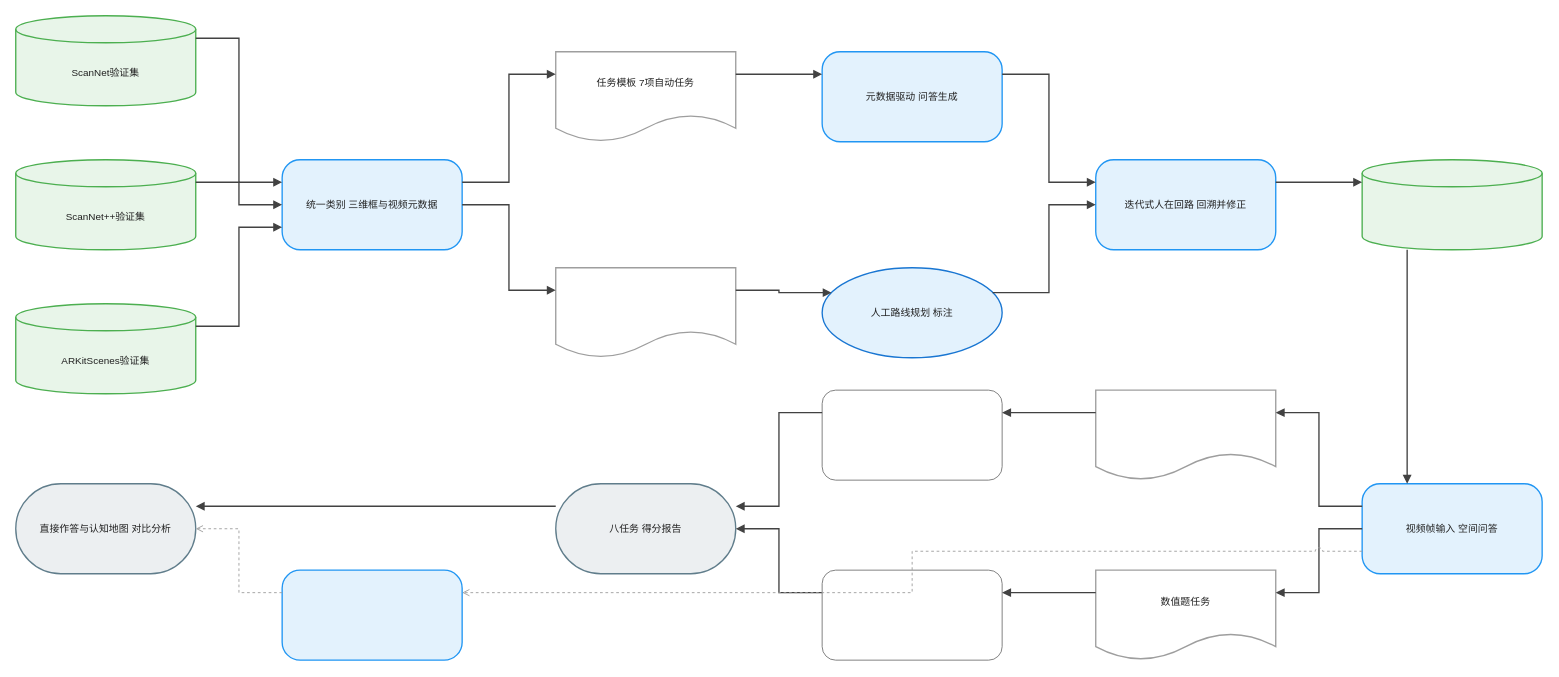
Image size: 1559x677. Some labels were removed from this diagram. The box of each missing label's shape, as (x1, y1, x2, y2) in pixels:
288视频·5000多问答 8项任务: (1361, 159, 1542, 250)
平均相对 准确率: (821, 569, 1002, 660)
认知地图 提示干预: (281, 569, 462, 660)
路线规划 人工标注指南: (555, 267, 736, 358)
选择题 准确率: (821, 389, 1002, 480)
选择题任务: (1095, 389, 1276, 480)
